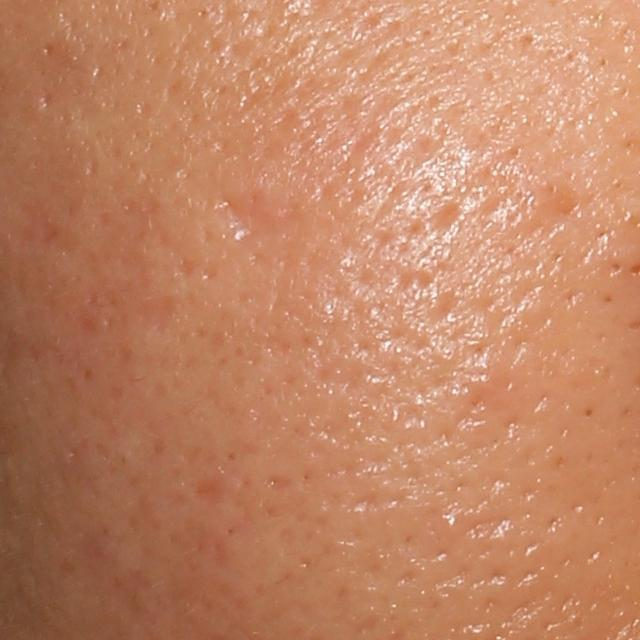atrophic_scar: (217, 185, 298, 244), (124, 290, 180, 335), (425, 199, 462, 239), (195, 473, 229, 507), (38, 87, 55, 109)
